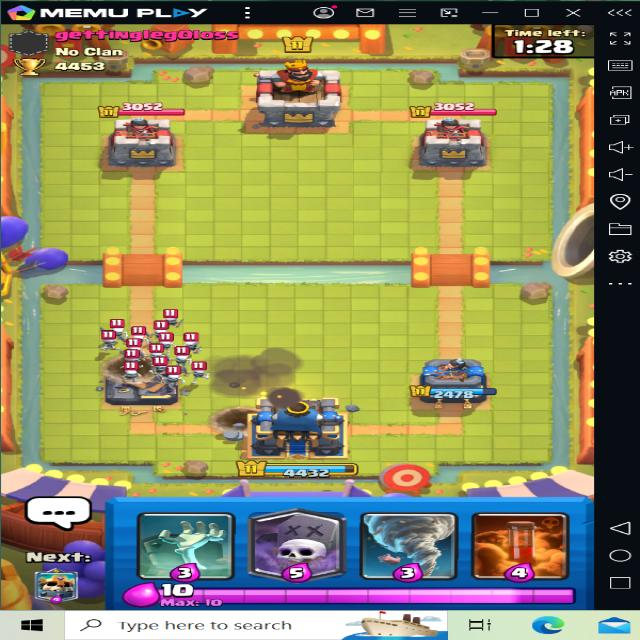skeleton: (160, 307, 188, 329), (182, 332, 206, 356), (105, 315, 128, 338), (158, 334, 182, 356), (146, 317, 170, 339), (188, 360, 214, 380), (99, 328, 116, 357), (126, 322, 148, 342), (115, 365, 139, 381), (166, 365, 189, 381), (127, 349, 146, 367), (170, 349, 189, 365)
